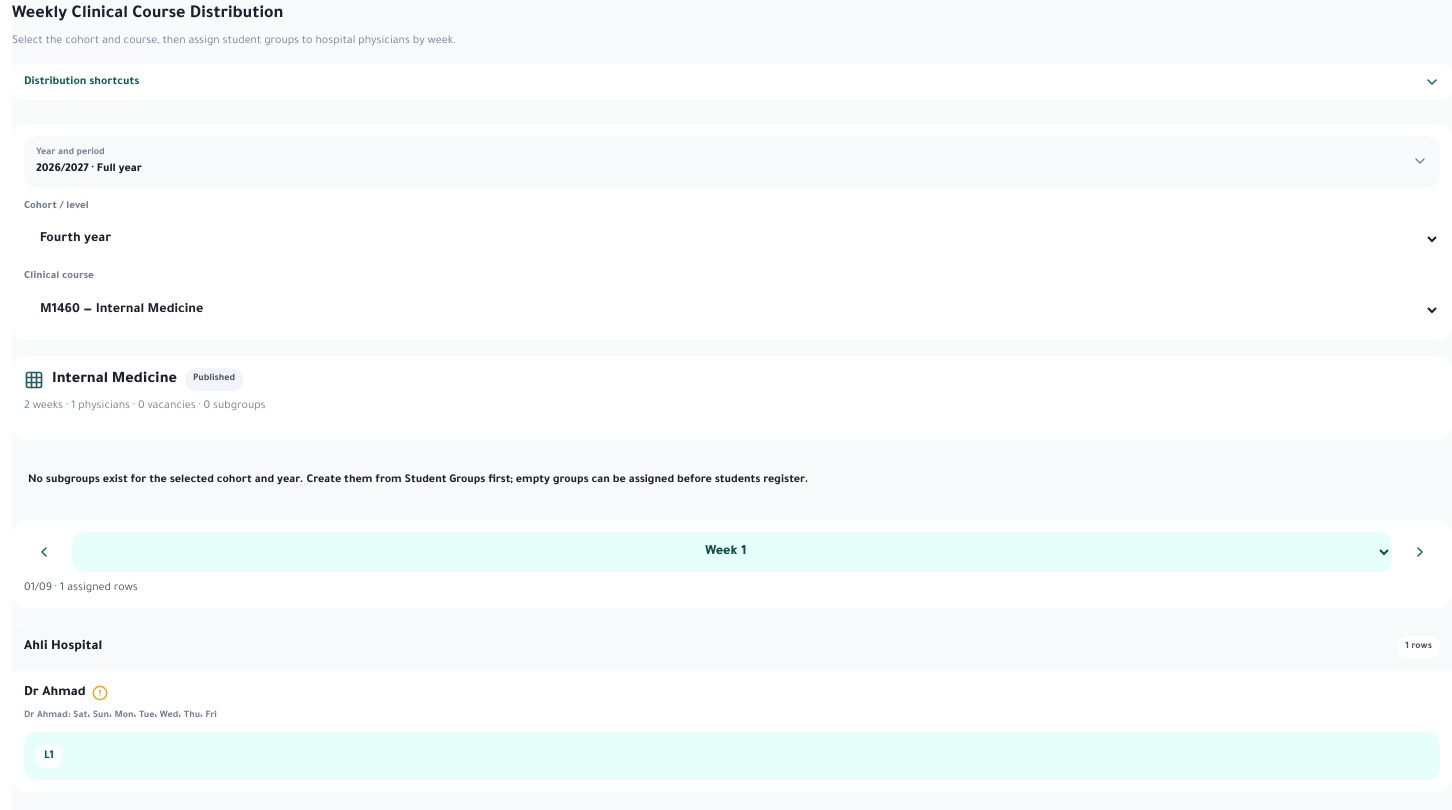
clinical distribution phone workspace › shows one selected week at a time and groups physician rows under their site
The image size is (1452, 810).
Expected: the heading "Ahli Hospital" is shown, [24,637,102,657]
Expected: the text "Dr Ahmad" is shown, [24,682,86,702]
Click the button named "Next week".
click(1420, 552)  # box [1400,532,1440,572]
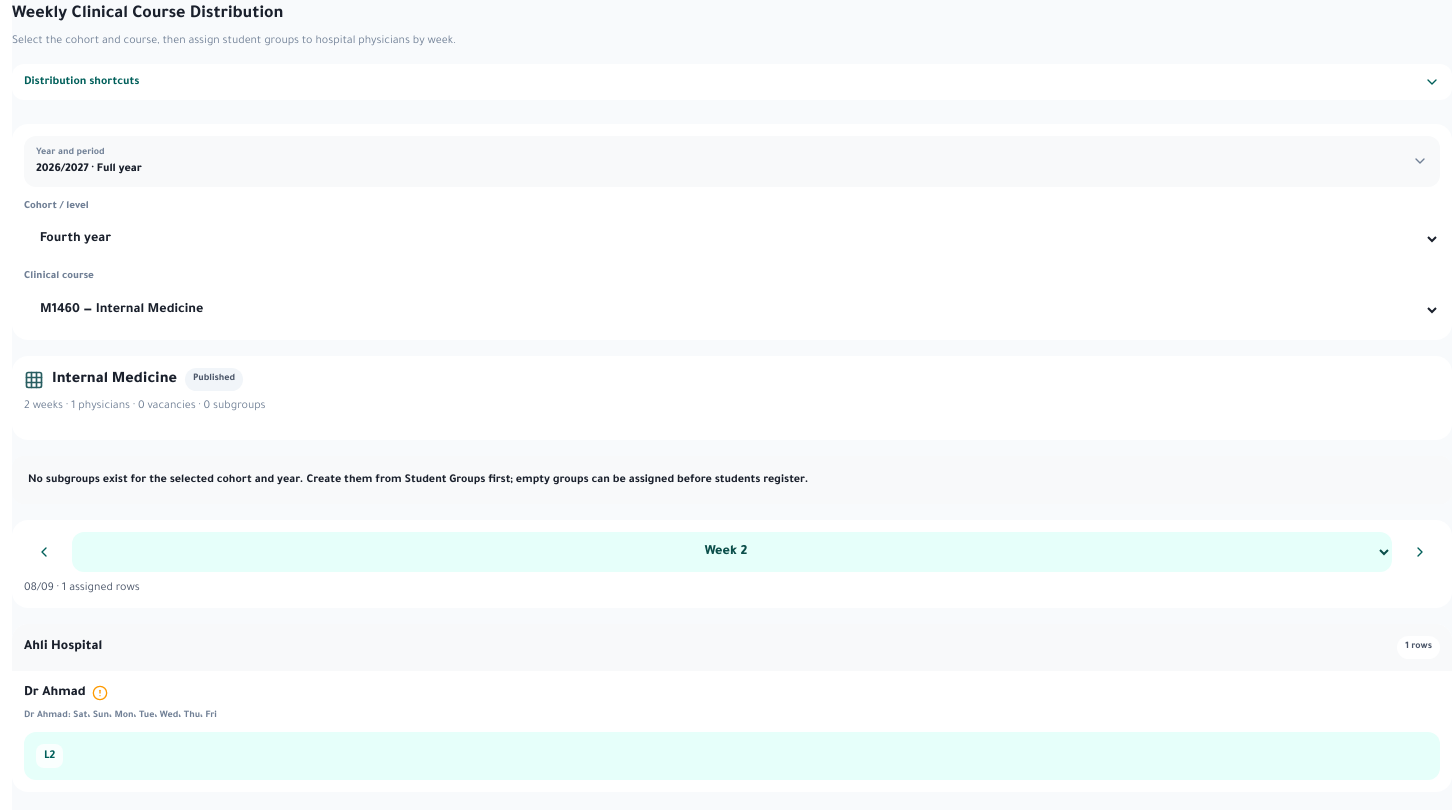
Now the text "L2" is shown, box [36,744,63,768]
Now the text "L1" is gone
Click the button "Year and period 2026/2027 · Full year".
click(70, 152)  # box [24,136,1440,186]
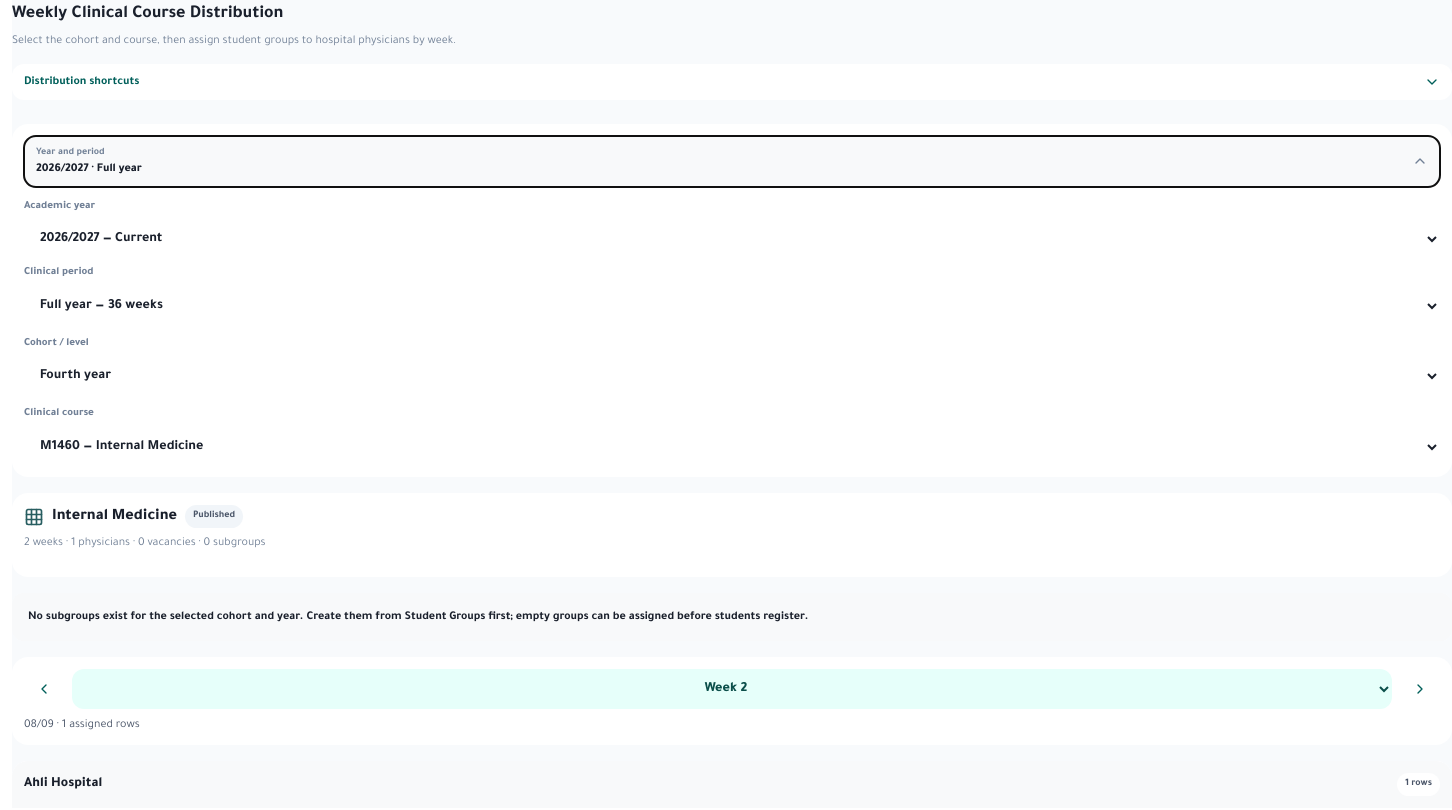
Now the button "Year and period 2026/2027 · Full year" is expanded, box [24,136,1440,186]
